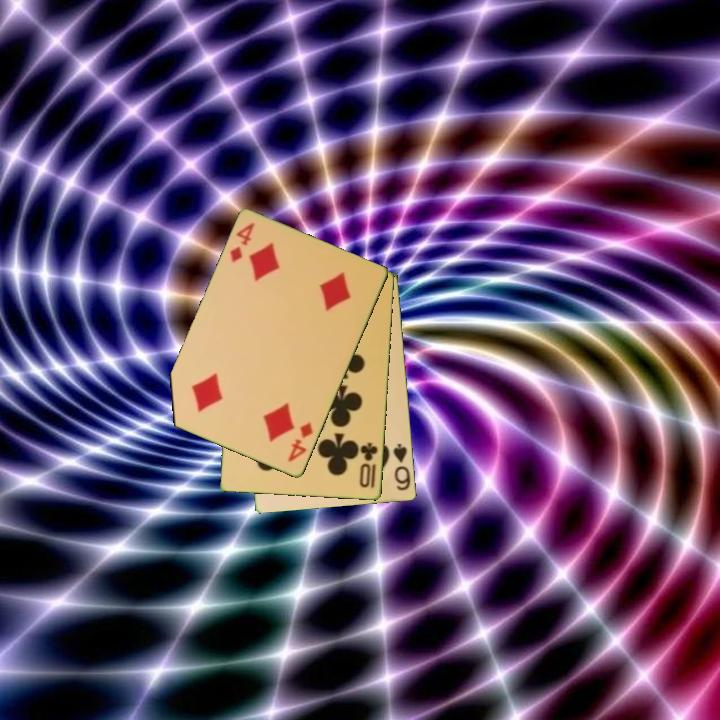10c: (356, 439, 381, 491)
4d: (284, 419, 316, 465), (226, 219, 258, 265)
6s: (390, 440, 414, 494)
